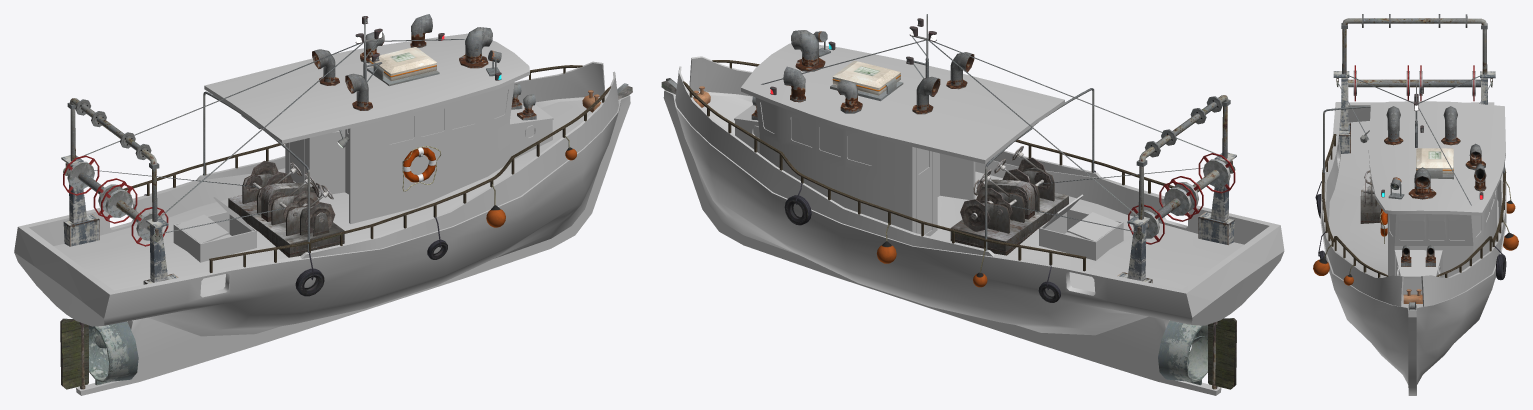
3 views of the same model, side by side, from view 1: azimuth 30°, elevation 25°; view 2: azimuth 150°, elevation 25°; view 3: azimuth 270°, elevation 25° (orthographic). The views are drawn at different scales.
Visible parts, largest first — view 1: bateau_peche_bateau_peche_coque_0, bateau_peche_chalut_0, bateau_peche_machinerie_0, bateau_peche_helice_0, bateau_peche_aerations_0, bateau_peche_rembarde_0, bateau_peche_metal_0, bateau_peche_accessoires_0, bateau_peche_pneu_0, bateau_peche_bouee_sauvetage_0, lumieres; view 2: bateau_peche_bateau_peche_coque_0, bateau_peche_chalut_0, bateau_peche_machinerie_0, bateau_peche_helice_0, bateau_peche_aerations_0, bateau_peche_rembarde_0, bateau_peche_metal_0, bateau_peche_accessoires_0, bateau_peche_pneu_0, lumieres, bateau_peche_bouee_0; view 3: bateau_peche_bateau_peche_coque_0, bateau_peche_chalut_0, bateau_peche_aerations_0, bateau_peche_rembarde_0, bateau_peche_accessoires_0, bateau_peche_metal_0, bateau_peche_bouee_0, bateau_peche_machinerie_0, lumieres, bateau_peche_pneu_0, bateau_peche_bouee_sauvetage_0.
Part boxes in pixels (bbox=[...]): bateau_peche_bateau_peche_coque_0: bbox=[14, 33, 630, 395]; bateau_peche_chalut_0: bbox=[61, 98, 178, 284]; bateau_peche_machinerie_0: bbox=[228, 160, 344, 257]; bateau_peche_helice_0: bbox=[60, 318, 138, 389]; bateau_peche_aerations_0: bbox=[312, 14, 536, 120]; bateau_peche_rembarde_0: bbox=[123, 65, 611, 272]; bateau_peche_metal_0: bbox=[82, 16, 465, 252]; bateau_peche_accessoires_0: bbox=[367, 47, 632, 112]; bateau_peche_pneu_0: bbox=[144, 194, 447, 296]; bateau_peche_bouee_sauvetage_0: bbox=[402, 146, 441, 191]; lumieres: bbox=[241, 16, 501, 147]; bateau_peche_bateau_peche_coque_0: bbox=[663, 43, 1284, 395]; bateau_peche_chalut_0: bbox=[1117, 95, 1236, 283]; bateau_peche_machinerie_0: bbox=[950, 146, 1068, 255]; bateau_peche_helice_0: bbox=[1158, 318, 1236, 389]; bateau_peche_aerations_0: bbox=[751, 30, 974, 120]; bateau_peche_rembarde_0: bbox=[683, 60, 1173, 271]; bateau_peche_metal_0: bbox=[761, 14, 1217, 250]; bateau_peche_accessoires_0: bbox=[661, 61, 903, 107]; bateau_peche_pneu_0: bbox=[784, 170, 1095, 302]; lumieres: bbox=[770, 18, 1032, 141]; bateau_peche_bouee_0: bbox=[876, 223, 987, 287]; bateau_peche_bateau_peche_coque_0: bbox=[1320, 101, 1506, 395]; bateau_peche_chalut_0: bbox=[1333, 14, 1495, 153]; bateau_peche_aerations_0: bbox=[1384, 106, 1486, 266]; bateau_peche_rembarde_0: bbox=[1322, 134, 1505, 277]; bateau_peche_accessoires_0: bbox=[1403, 148, 1453, 310]; bateau_peche_metal_0: bbox=[1323, 73, 1504, 205]; bateau_peche_bouee_0: bbox=[1313, 181, 1518, 285]; bateau_peche_machinerie_0: bbox=[1360, 170, 1387, 223]; lumieres: bbox=[1360, 86, 1483, 199]; bateau_peche_pneu_0: bbox=[1315, 172, 1506, 280]; bateau_peche_bouee_sauvetage_0: bbox=[1377, 203, 1387, 243].
Size of the model in its own units: 1314 by 675 by 480.
